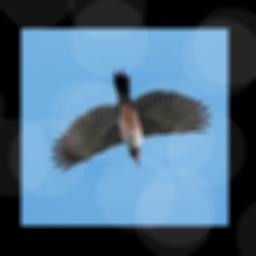Woodpecker: (51, 69, 211, 172)
